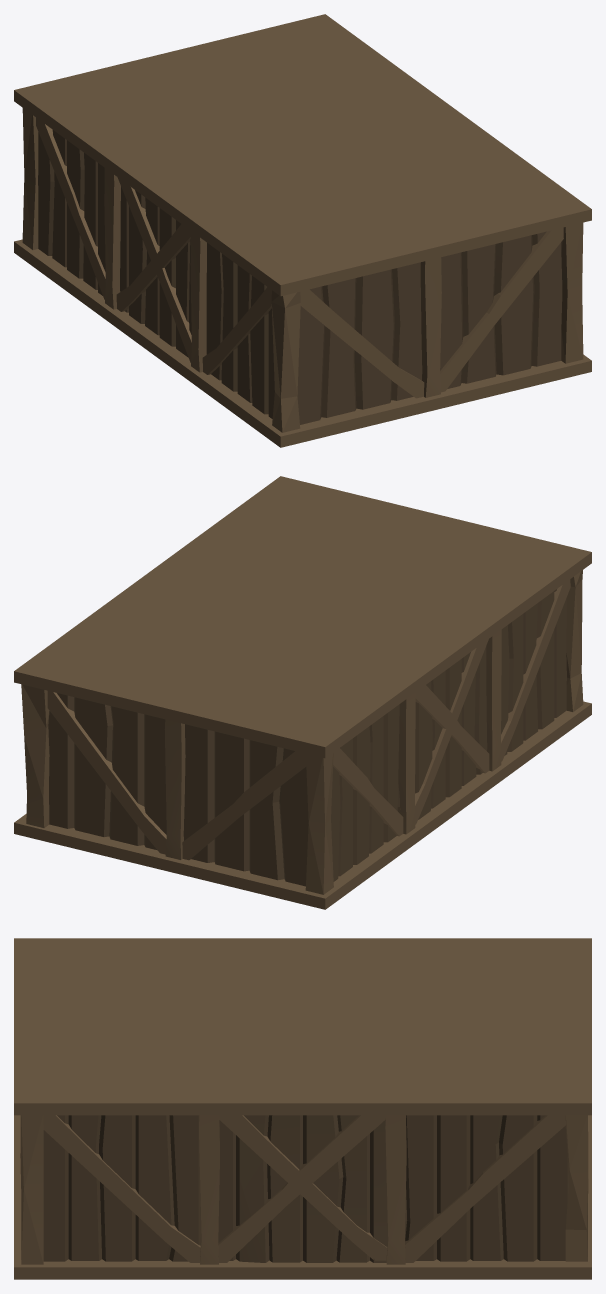
3 renders of one model, top to bottom at view 1: azimuth 30°, elevation 25°; view 2: azimuth 150°, elevation 25°; view 3: azimuth 270°, elevation 25°, orthographic. The views are drawn at different scales.
Visible parts, largest first — view 1: SM_Bld_Base_Long_02; view 2: SM_Bld_Base_Long_02; view 3: SM_Bld_Base_Long_02.
Part boxes in pixels (x1,y1,x2,y2): SM_Bld_Base_Long_02: [14, 14, 591, 447]; SM_Bld_Base_Long_02: [14, 476, 591, 909]; SM_Bld_Base_Long_02: [14, 938, 591, 1279].
Size of the model in its own units: 4.57 by 2.28 by 6.78.
Materials: 1 (1 with a texture image).
